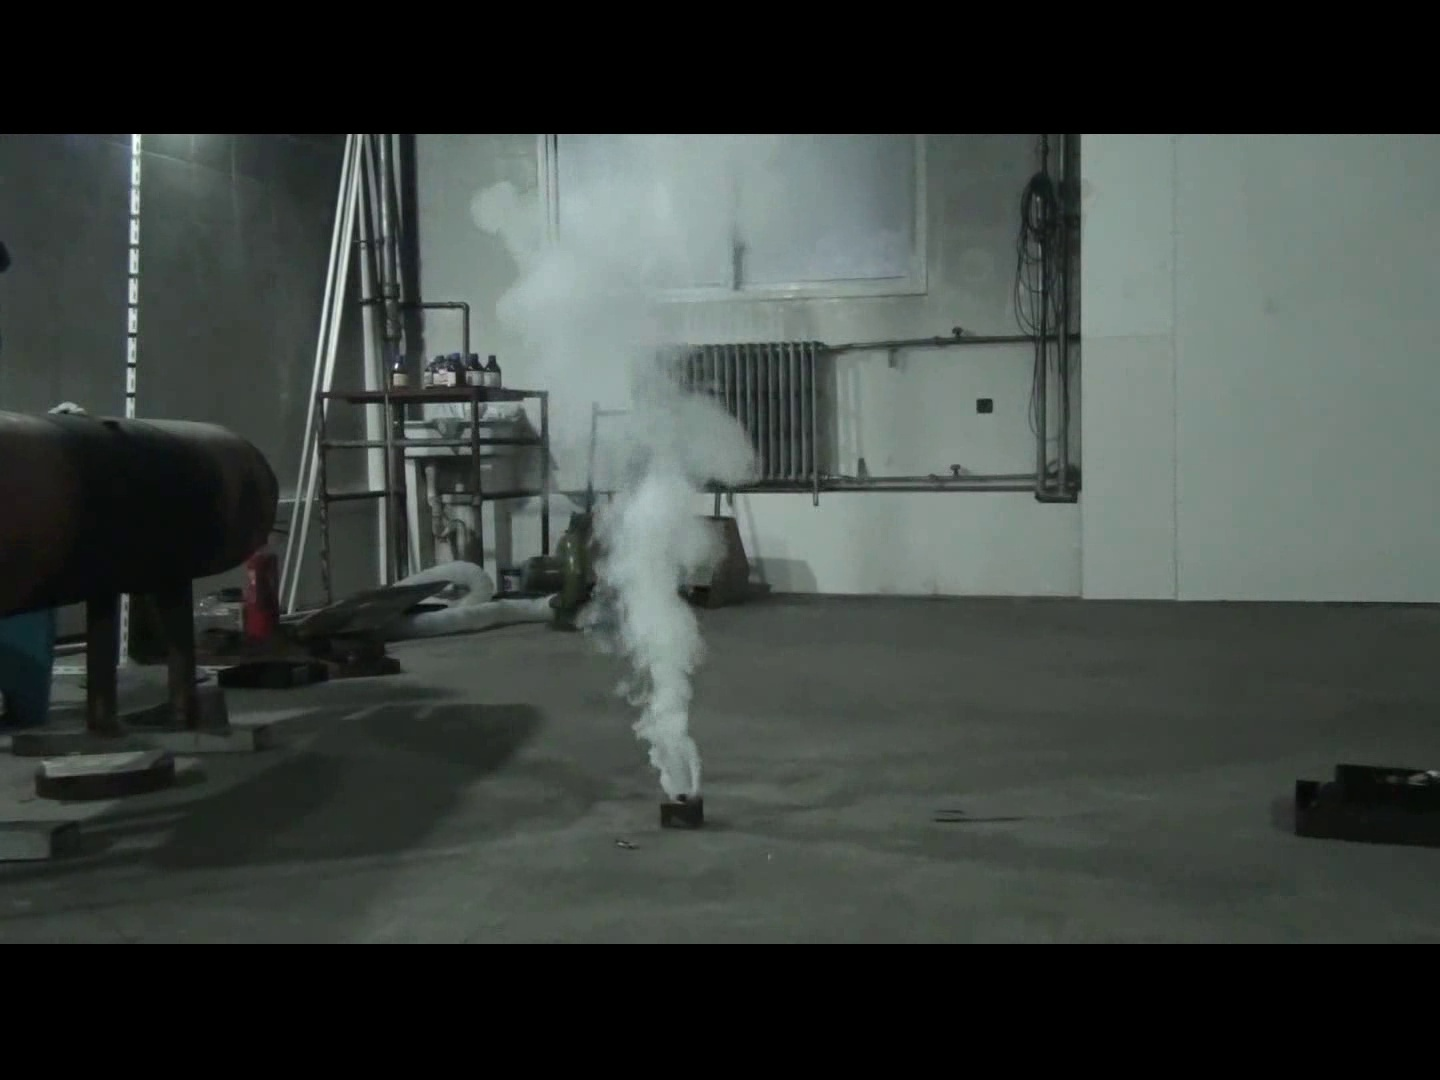smoke: (458, 152, 765, 793)
